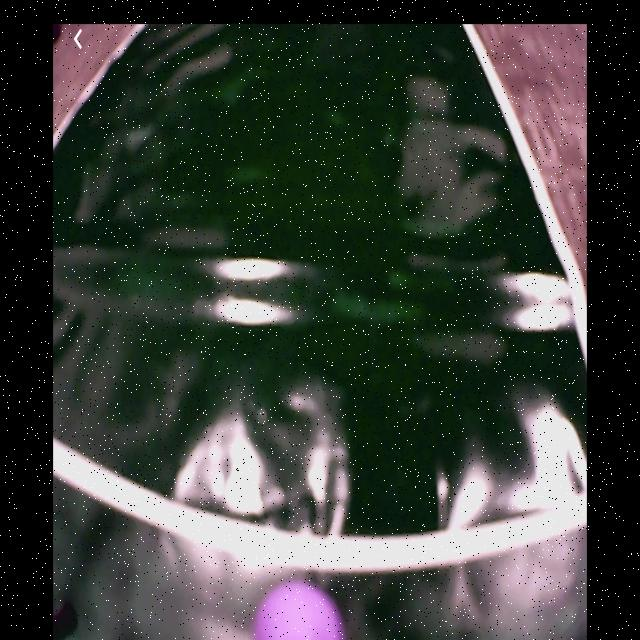ball: (253, 578, 347, 639)
